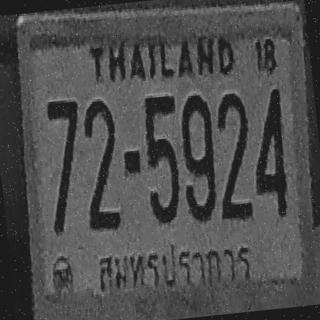N02: (209, 91, 257, 222), (77, 97, 124, 230)
N04: (246, 85, 292, 218)
N05: (139, 92, 187, 225)
N07: (42, 97, 90, 234)
N09: (176, 92, 222, 222)
P57: (90, 230, 258, 305)
